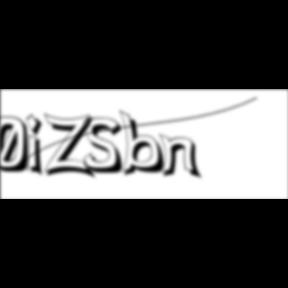0: (1, 115, 37, 174)
S: (84, 117, 130, 176)
Z: (44, 112, 98, 181)
b: (119, 109, 172, 179)
i: (26, 112, 50, 180)
n: (158, 132, 206, 181)
